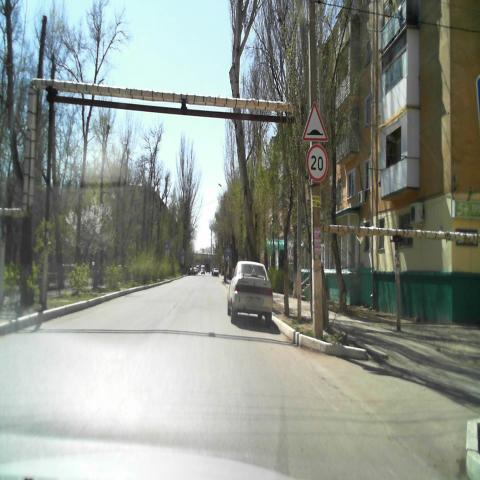1_17: (300, 102, 328, 140)
